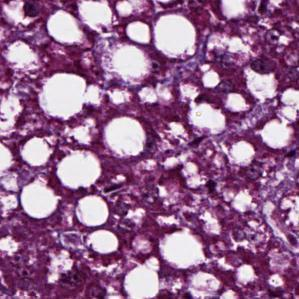steatosis: (37, 72, 91, 119), (150, 12, 201, 59), (103, 113, 149, 161)
